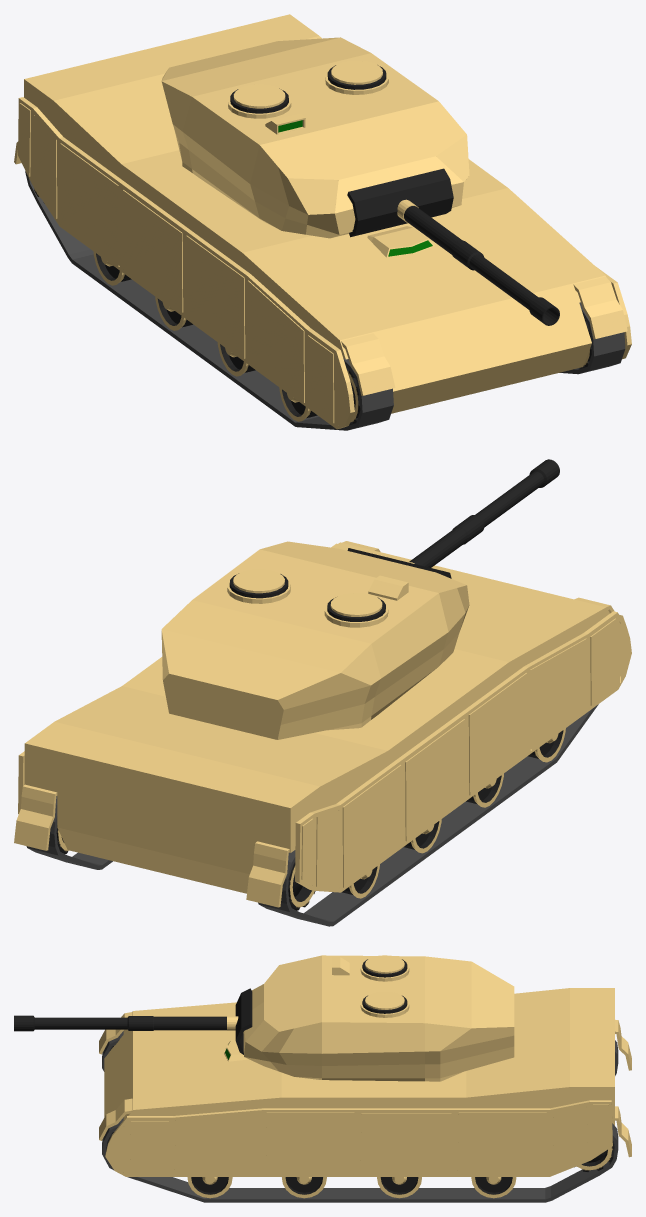
3 renders of one model, top to bottom at view 1: azimuth 30°, elevation 25°; view 2: azimuth 150°, elevation 25°; view 3: azimuth 270°, elevation 25°, orthographic. The views are drawn at different scales.
Visible parts, largest first — view 1: Hull, Turret, R_SideSkirt, R_Track, Gunmount, Main_Gun, L_Track; view 2: Hull, Turret, R_SideSkirt, R_Track, Main_Gun, L_Track; view 3: Hull, L_Side_Skirt, Turret, L_Track, Main_Gun, Gunmount, L_RoadWheel.001, L_RoadWheel.005, L_RoadWheel, L_RoadWheel.002, L_RoadWheel.004.
Part boxes in pixels (x1,y1,x2,y2): Hull: (14,14,627,413); Turret: (161,37,469,238); R_SideSkirt: (18,97,354,429); R_Track: (25,171,393,430); Gunmount: (347,168,453,237); Main_Gun: (404,206,559,325); L_Track: (559,302,625,374); Hull: (14,541,627,907); Turret: (161,541,469,739); R_SideSkirt: (295,611,631,892); R_Track: (258,704,598,926); Main_Gun: (409,459,559,567); L_Track: (26,796,112,869); Hull: (99,988,631,1157); L_Side_Skirt: (105,1100,612,1176); Turret: (243,955,514,1081); L_Track: (102,1117,618,1202); Main_Gun: (14,1015,226,1031); Gunmount: (227,988,252,1054); L_RoadWheel.001: (187,1177,232,1198); L_RoadWheel.005: (471,1177,516,1198); L_RoadWheel: (282,1177,326,1198); L_RoadWheel.002: (377,1177,421,1198); L_RoadWheel.004: (574,1140,614,1171).
Bounding box in the file's own units: 316 × 782 × 240.
Materials: 2 (1 with a texture image).
